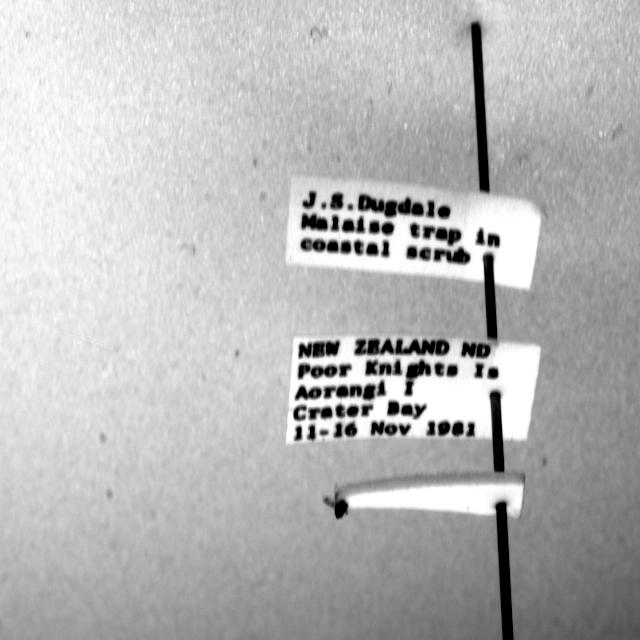typed_label: (286, 174, 541, 289), (286, 336, 540, 444)
